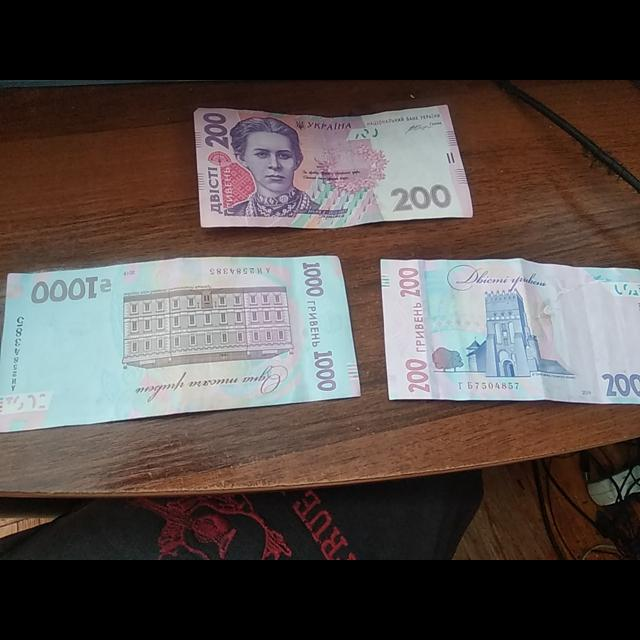1000uah: (0, 254, 362, 433)
200uah: (380, 259, 640, 406), (195, 105, 474, 228)
